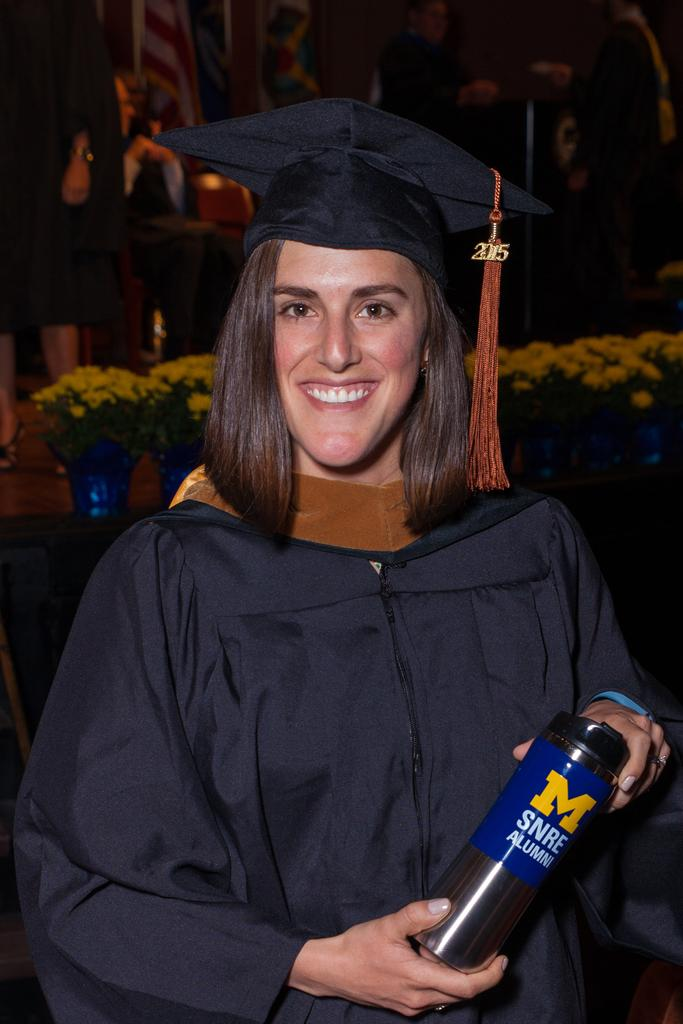Hat: (159, 96, 558, 492)
